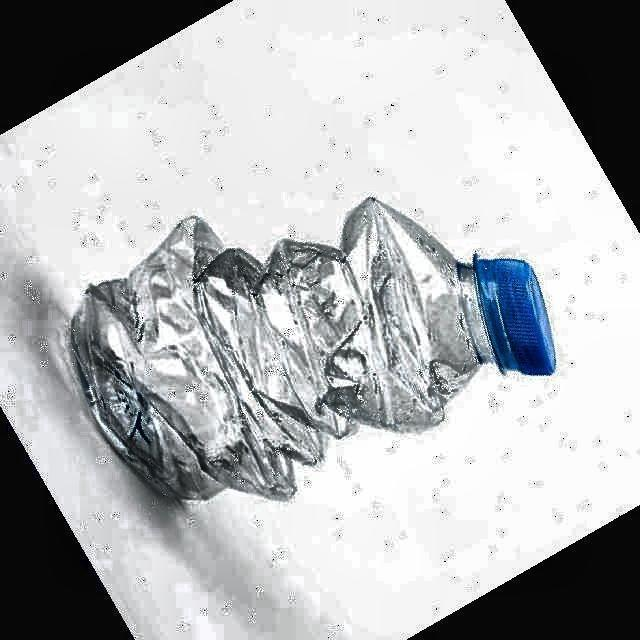plastic: (71, 198, 555, 499)
